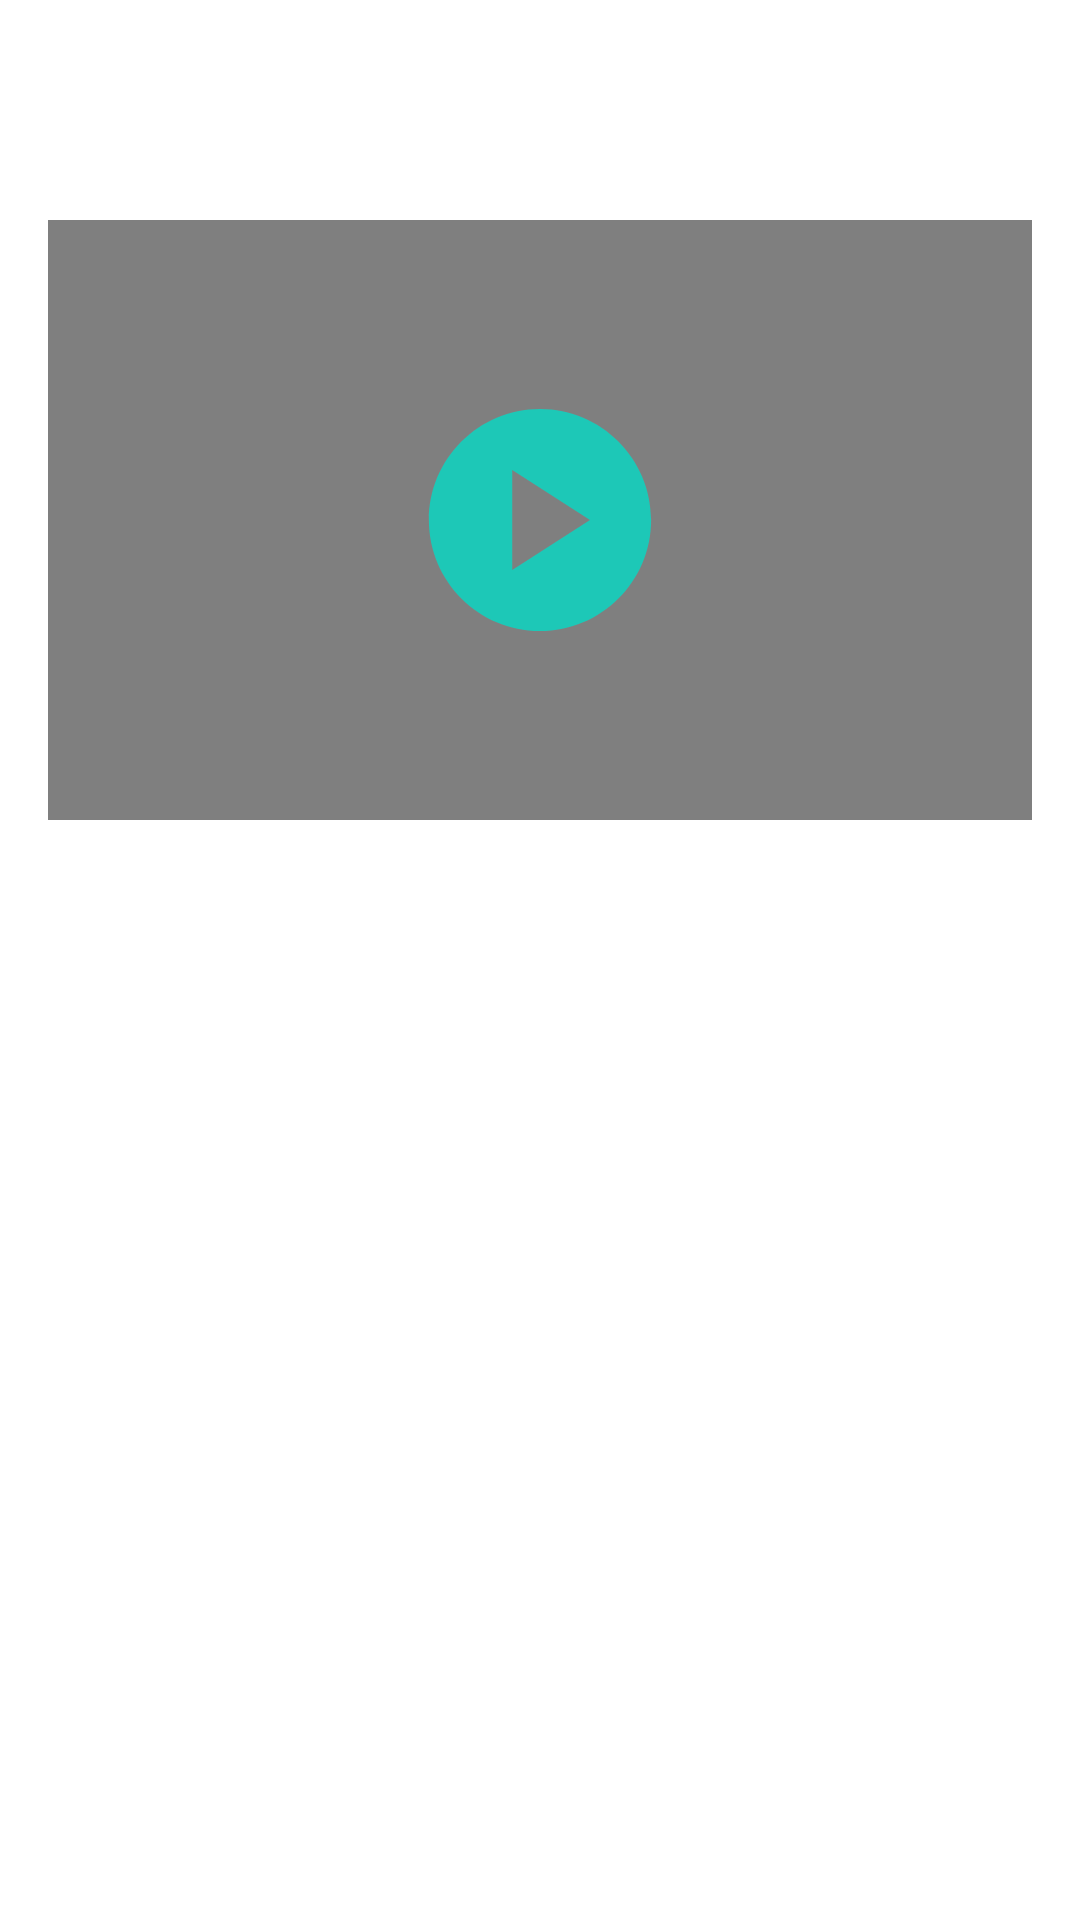

Icon click points for this 1080px×1920px phone screenshot, format [x,y]:
Start Now: [540,520]
